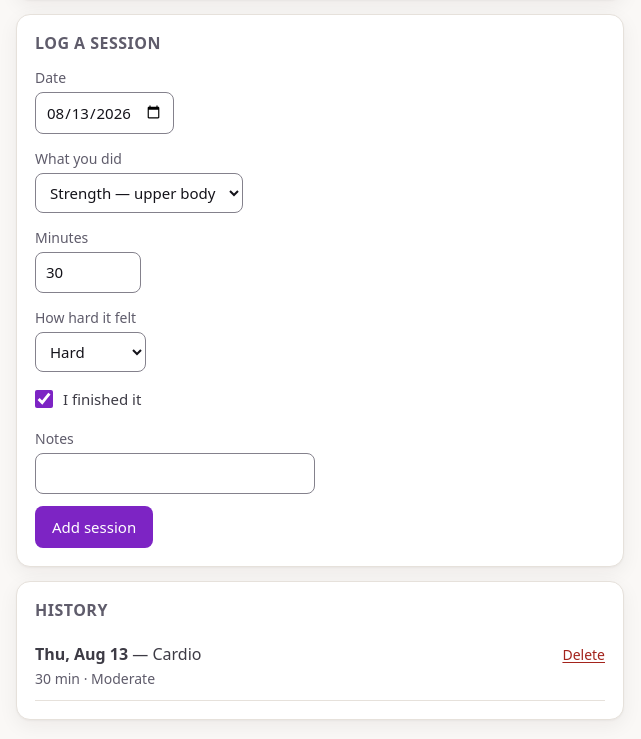
Test: Workouts page › deletes a session
(page scrolled)
Click the button "Delete" at (584, 654), box [562,644,605,665]
(page scrolled)
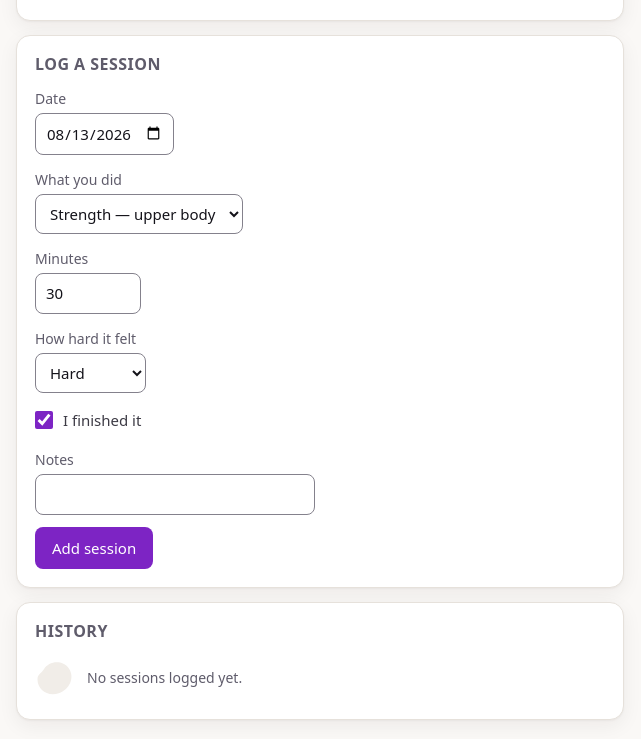
Check: the text "No sessions logged yet." is shown, box [87,666,242,688]
